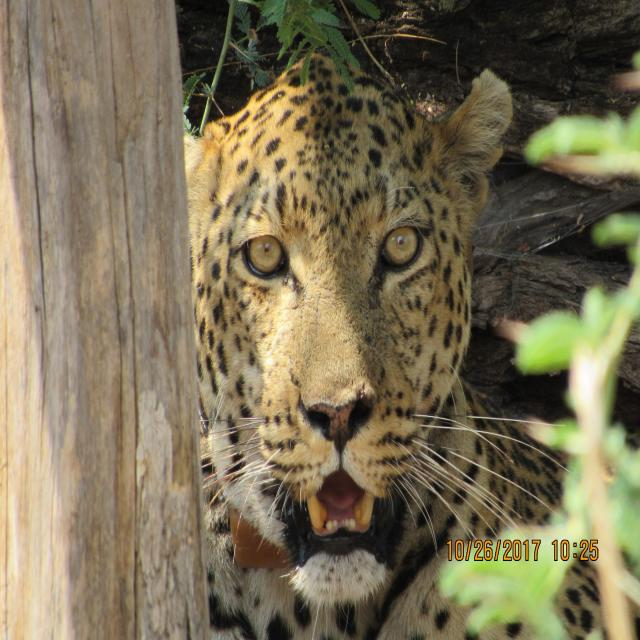Leopard: (164, 36, 640, 640)
